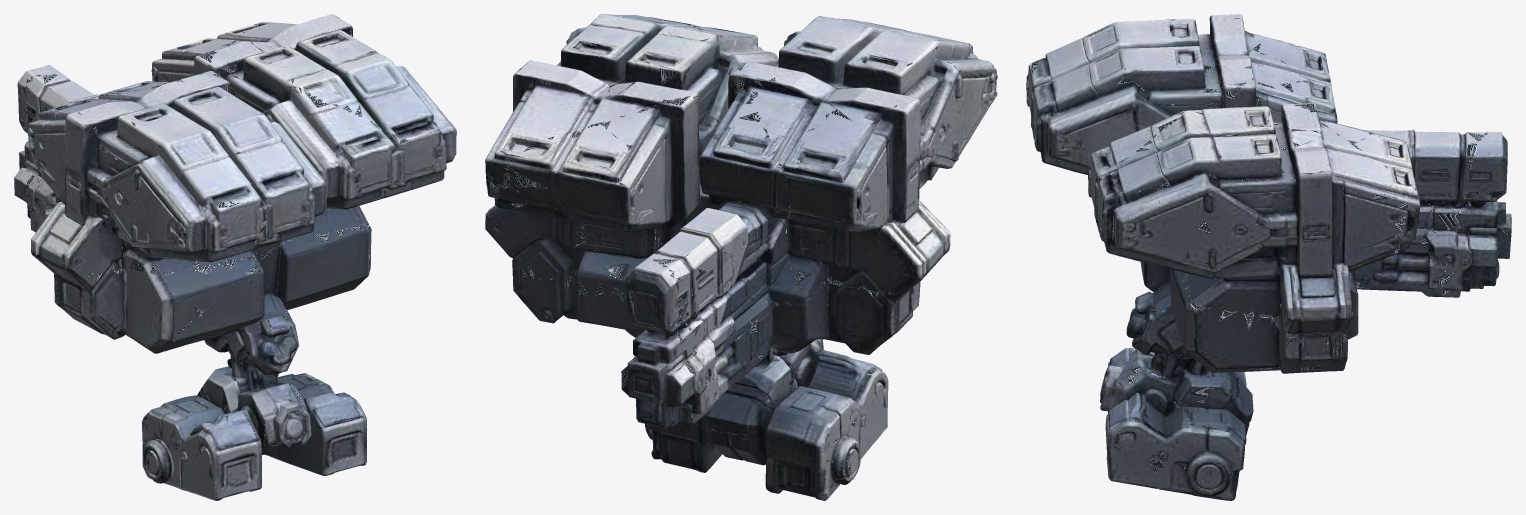
File: HL_WPN_GrayModules_04.glb
3 renders of one model, left to right at view 1: azimuth 30°, elevation 25°; view 2: azimuth 150°, elevation 25°; view 3: azimuth 270°, elevation 25°, orthographic. The views are drawn at different scales.
Parts seen in each view (by area): view 1: meshes[0]; view 2: meshes[0]; view 3: meshes[0].
Boxes of the visible parts, x1,y1,x2,y2 form: meshes[0]: [14, 14, 456, 500]; meshes[0]: [485, 14, 997, 500]; meshes[0]: [1026, 14, 1511, 500].
Bounding box in the file's own units: 0.3527 × 0.3651 × 0.4161.
Materials: 1 (1 with a texture image).
